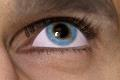eye: (46, 22, 77, 45)
